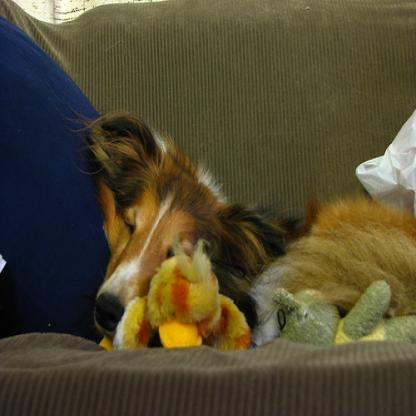Shetland_sheepdog: (66, 110, 414, 340)
